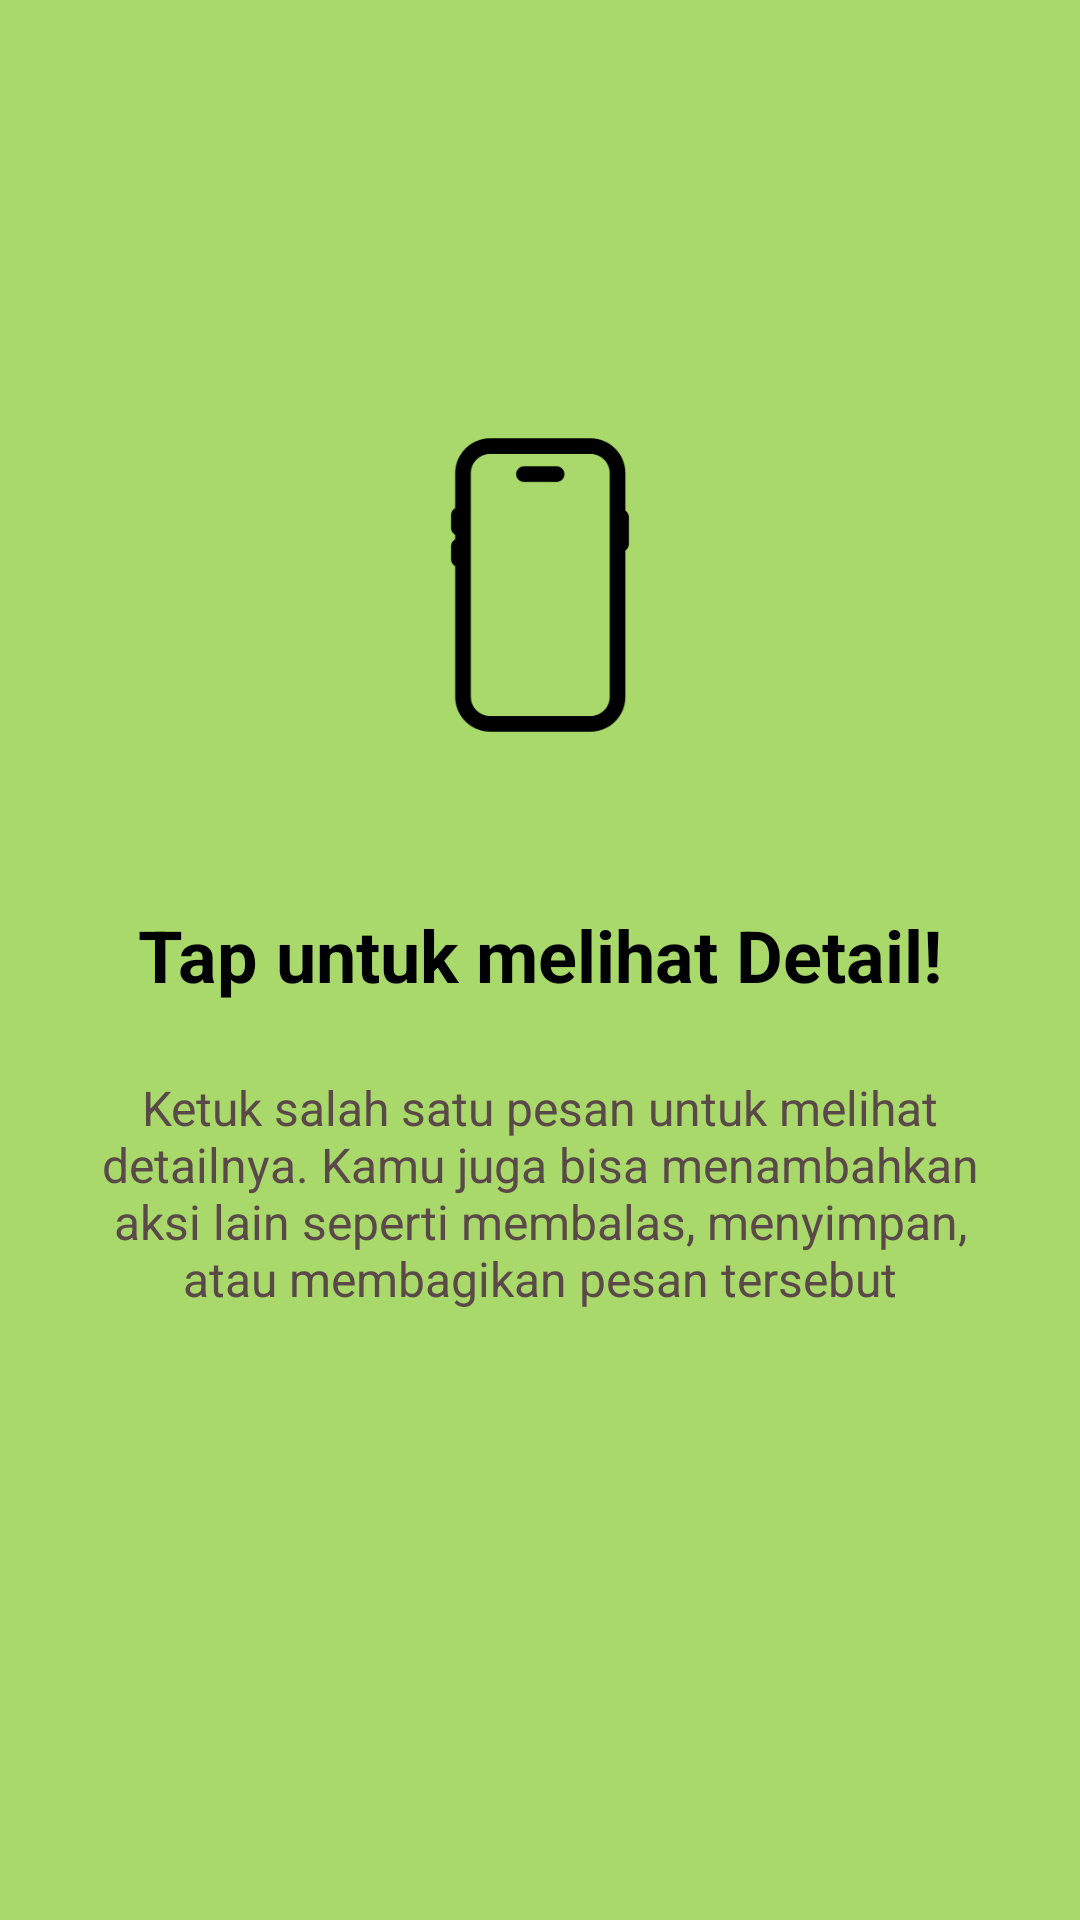

Where icons sit on this 1080px x 1920px app screen, as [x1,y1,x2,y2]:
handphone: [451,438,629,732]
